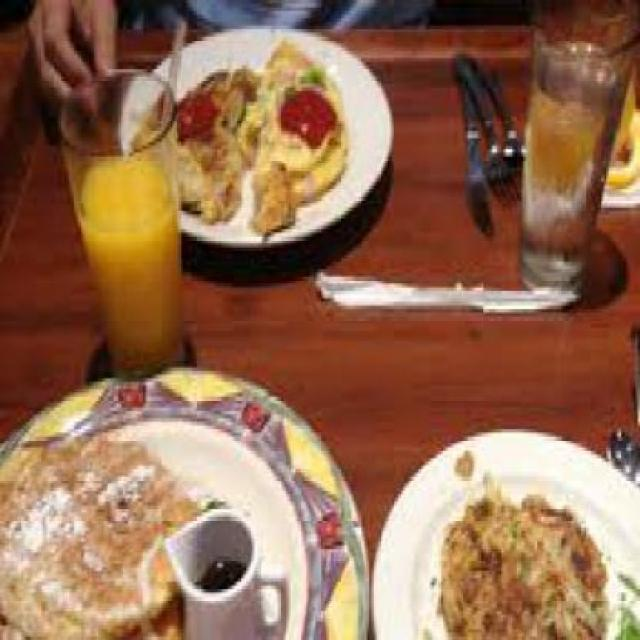omelette: (150, 32, 342, 230), (434, 440, 615, 637)
